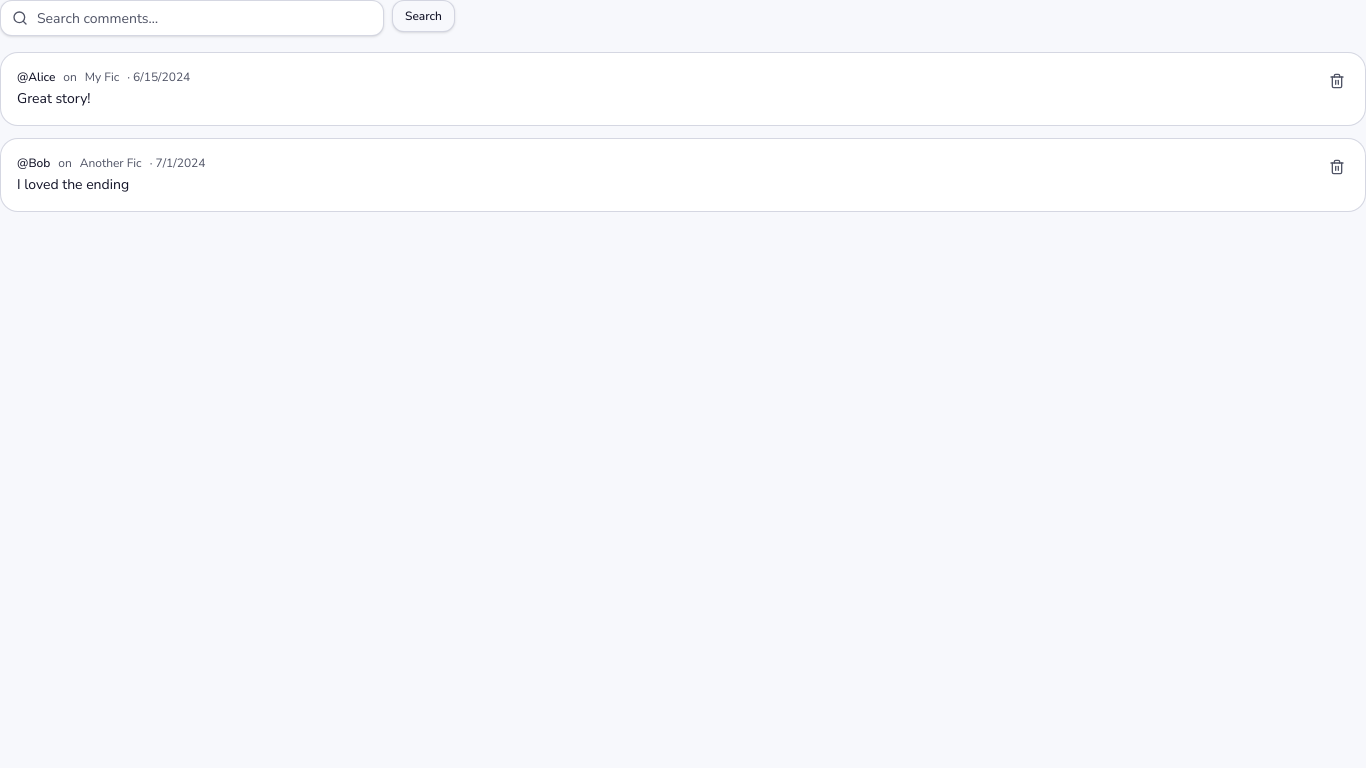
Test: CommentsSection › opens confirm modal on delete click
Check: the text "Great story!" is shown, box [17, 89, 91, 108]
Click the button named "Delete comment" in the row of "6/15/2024" at (1337, 81), box [1325, 69, 1349, 93]
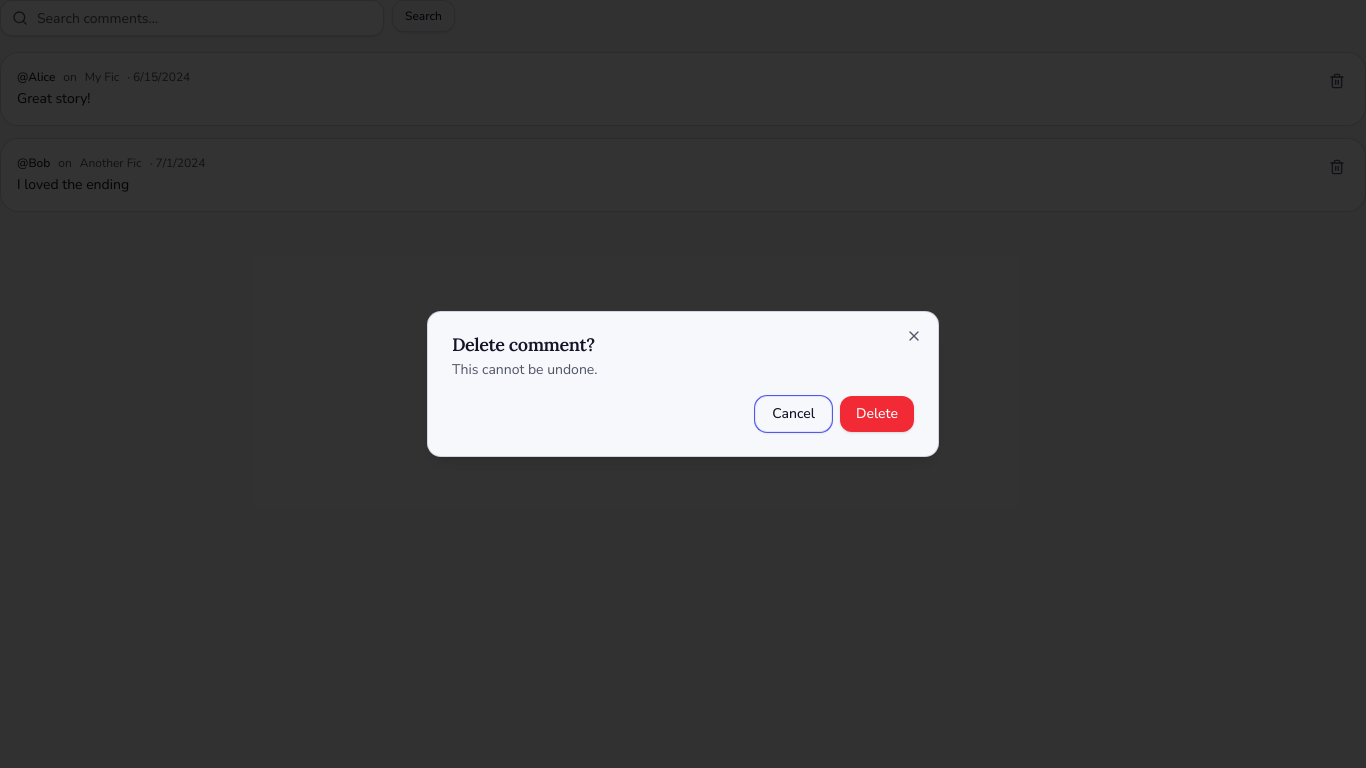
Check: the heading "Delete comment?" is shown, box [452, 333, 595, 356]
Check: the text "This cannot be undone." is shown, box [452, 360, 598, 379]
